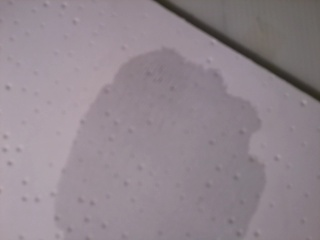Water_detected: (85, 77, 222, 240)
